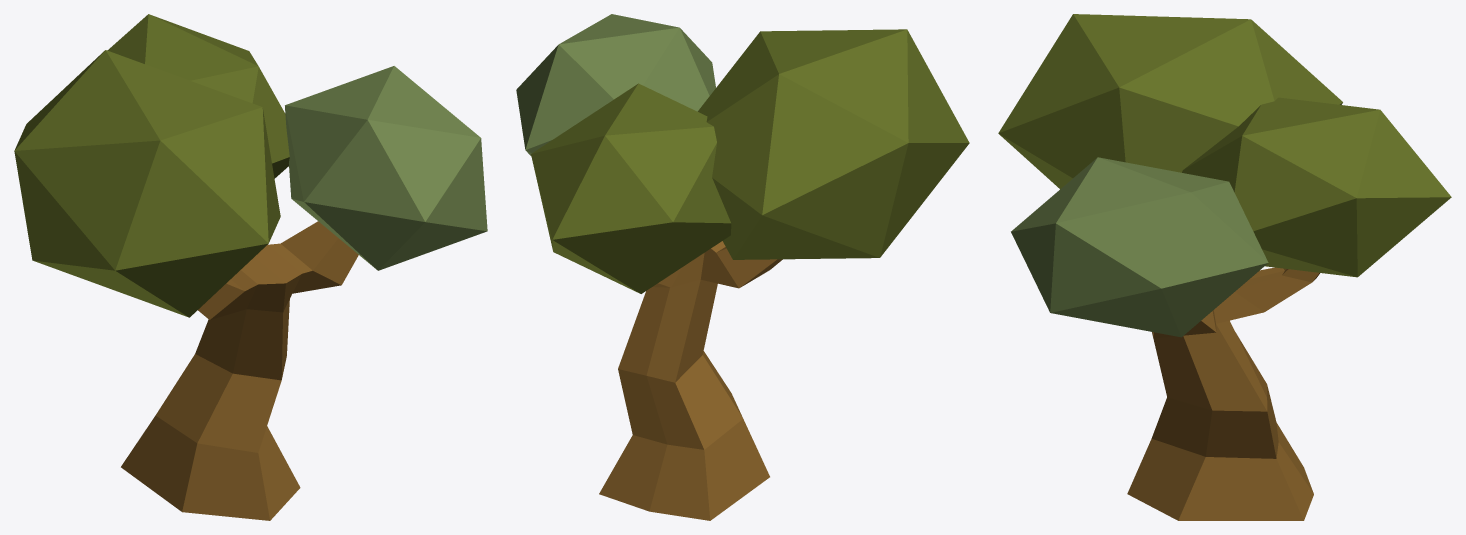
The model's file is tree.glb.
3 views of the same model, side by side, from view 1: azimuth 30°, elevation 25°; view 2: azimuth 150°, elevation 25°; view 3: azimuth 270°, elevation 25° (orthographic). The views are drawn at different scales.
Visible parts, largest first — view 1: Tree; view 2: Tree; view 3: Tree.
Boxes of the visible parts, x1,y1,x2,y2 form: Tree: (14, 14, 487, 520); Tree: (516, 14, 969, 520); Tree: (998, 14, 1451, 520).
Size of the model in its own units: 1.96 by 1.96 by 1.88.
1 material, 1 textured.
